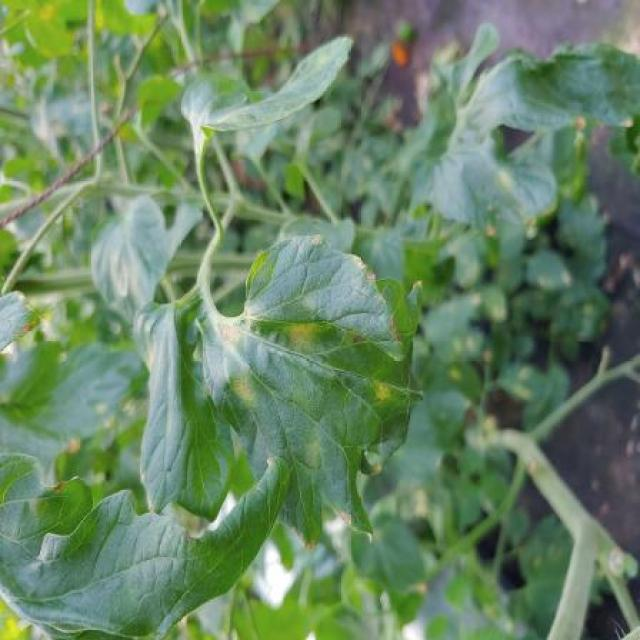Leaf Mold: (202, 234, 424, 546)
